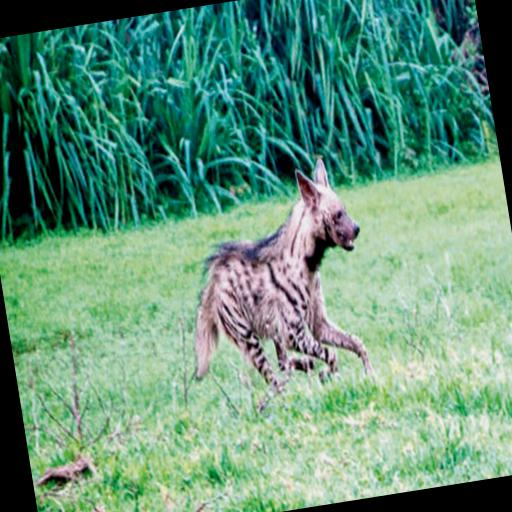hyenas: (158, 136, 400, 398)
